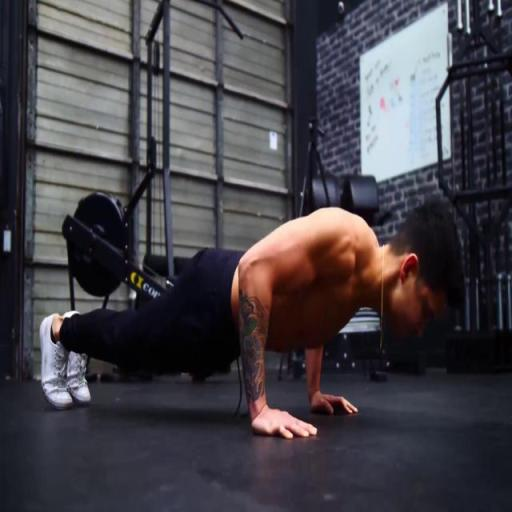Normal_BrenchPress: (41, 195, 466, 441)
